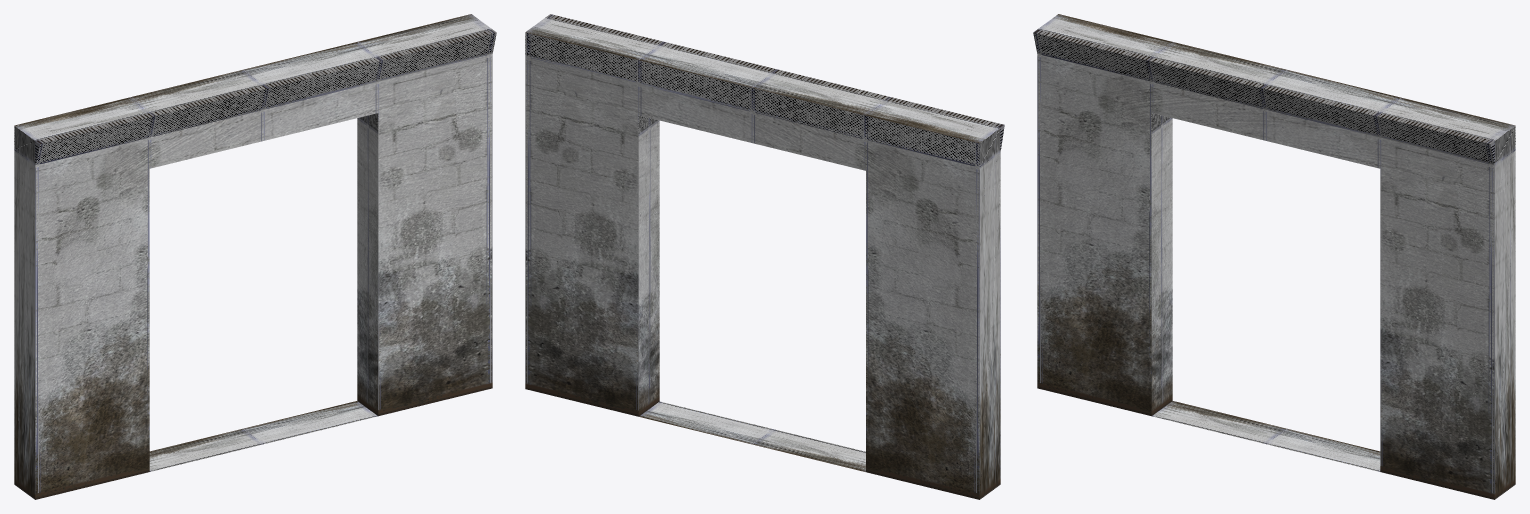
The model's file is Wall 1 wide_frame 1.fbx.
3 views of the same model, side by side, from view 1: azimuth 30°, elevation 25°; view 2: azimuth 150°, elevation 25°; view 3: azimuth 330°, elevation 25° (orthographic).
Visible parts, largest first — view 1: hallway 1.001; view 2: hallway 1.001; view 3: hallway 1.001.
Boxes of the visible parts, <box> form: hallway 1.001: <box>14,14,496,499</box>; hallway 1.001: <box>525,14,1004,499</box>; hallway 1.001: <box>1033,14,1515,499</box>.
Size of the model in its own units: 400 by 300 by 38.35.
Materials: 1 (1 with a texture image).
